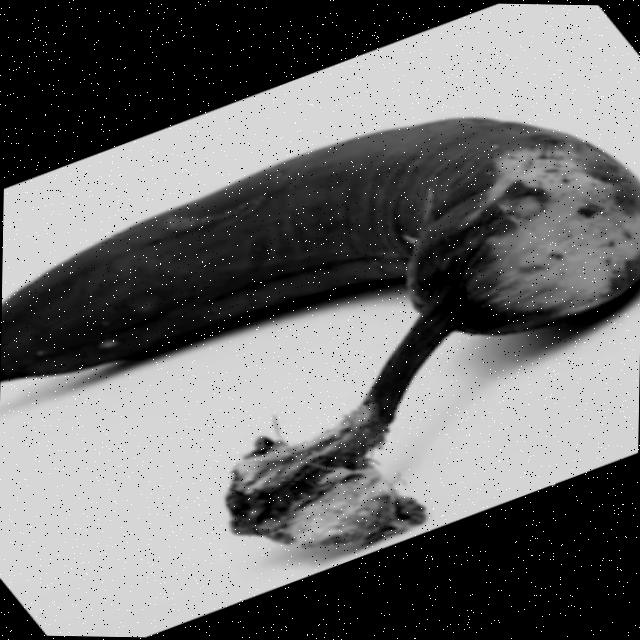Rotten: (0, 108, 640, 453)
